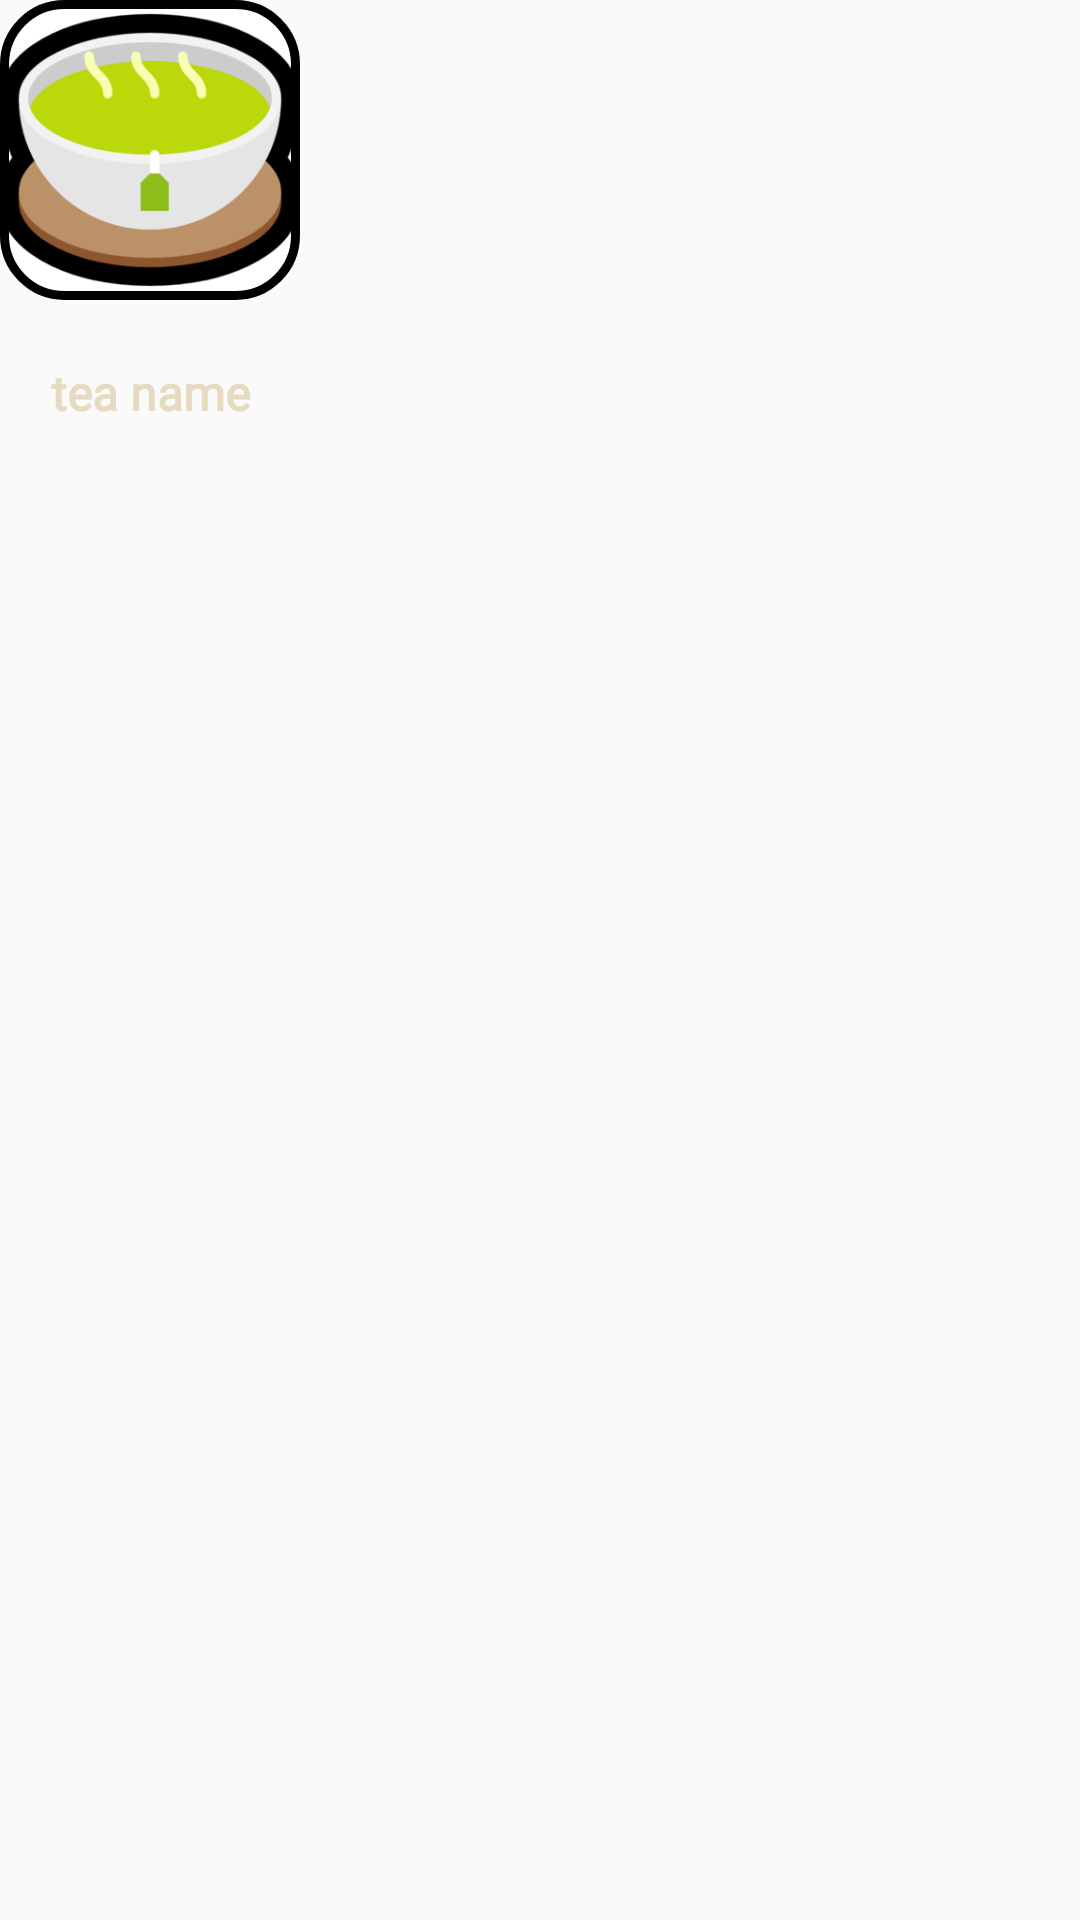

Icons on this 1080×1920 Android screen, each with the point to tap as (x=x, y=y):
teacup: (x=150, y=150)
